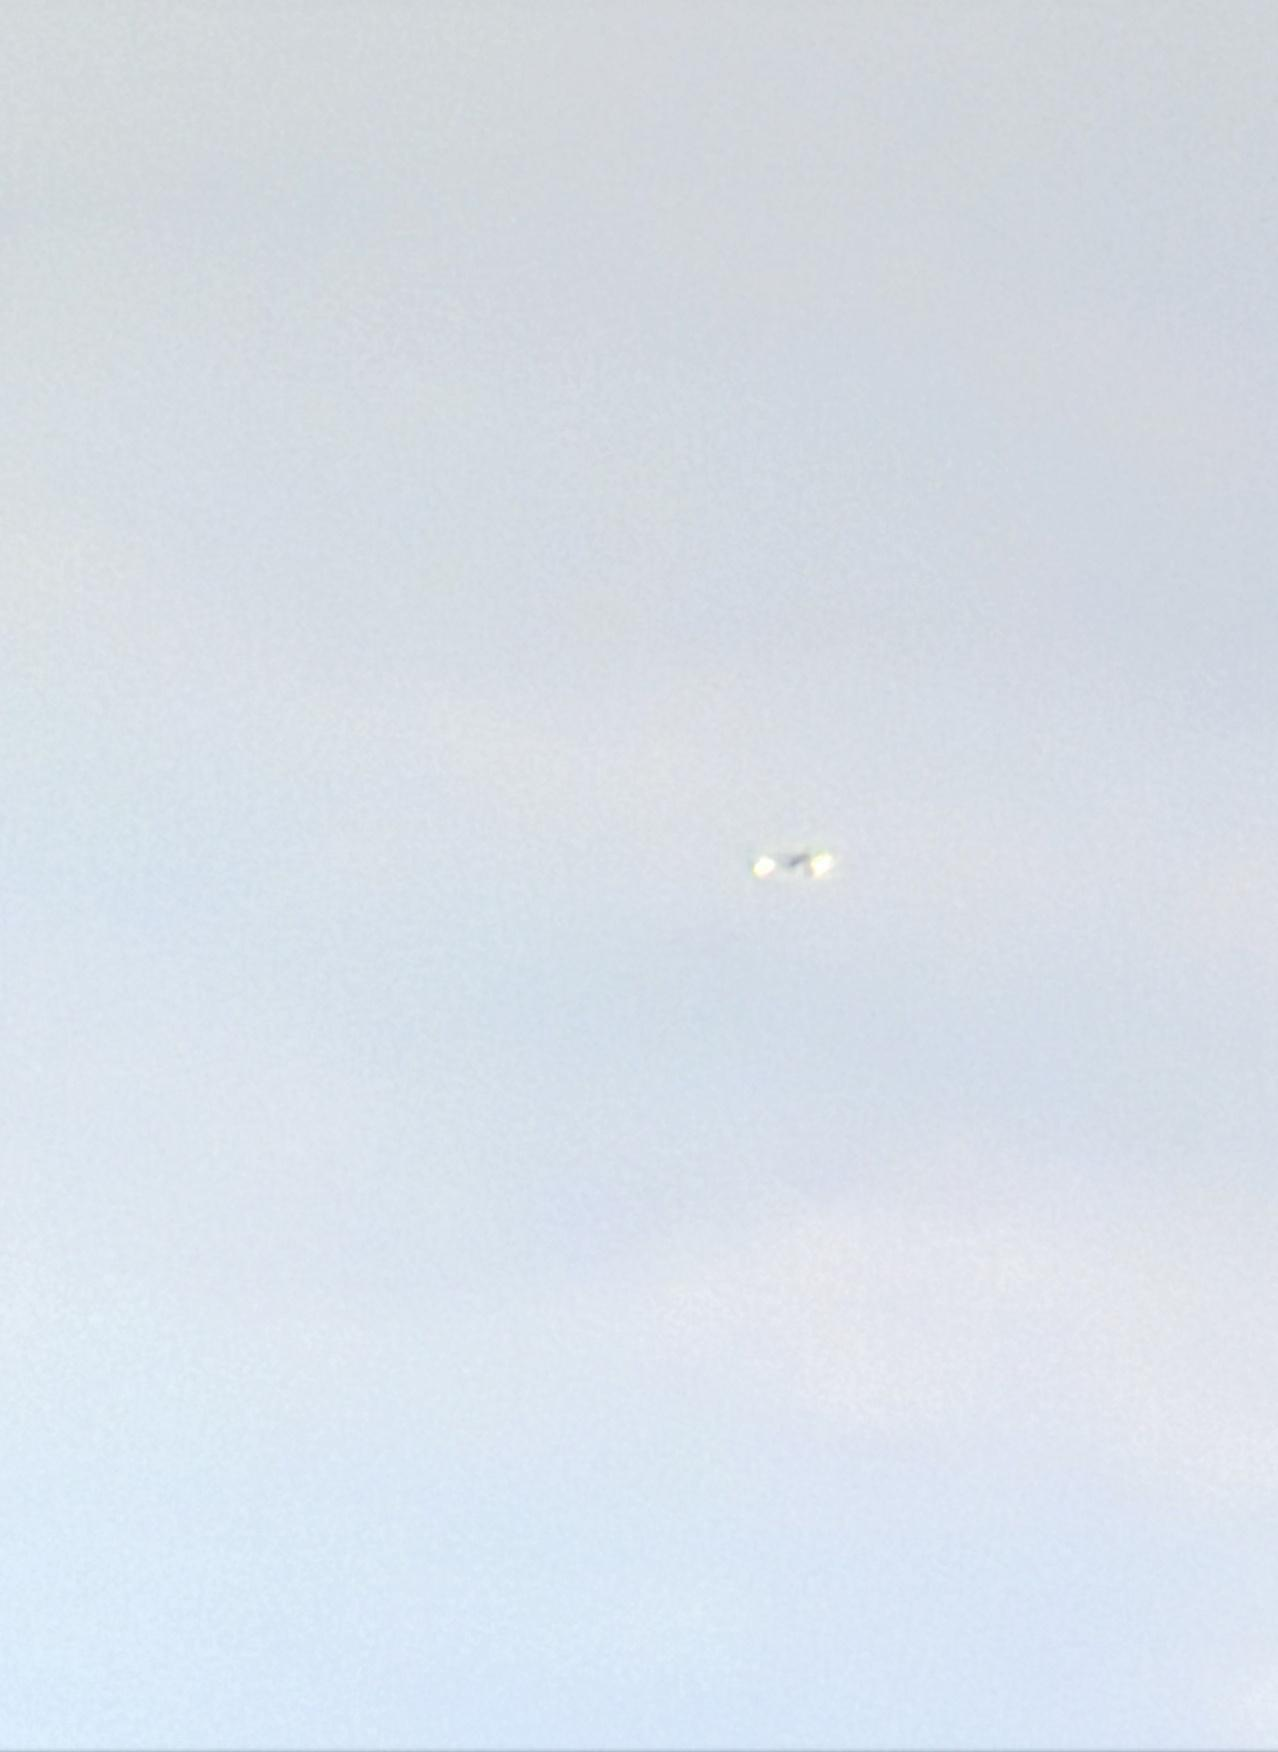Plane: (721, 809, 863, 922)
